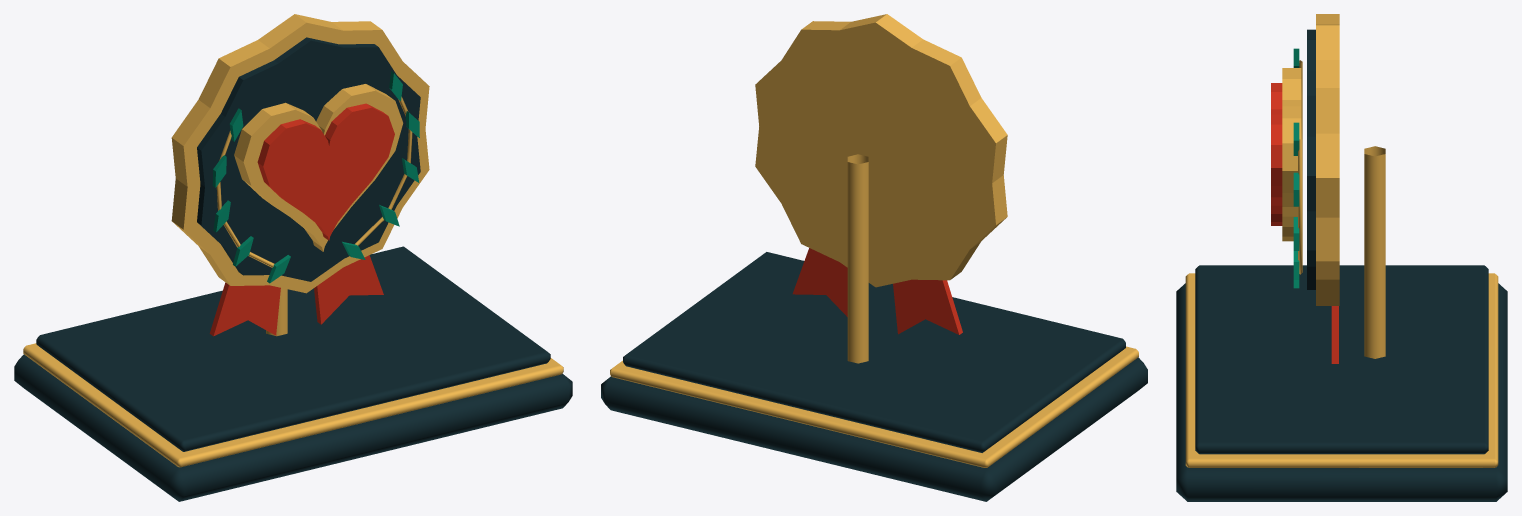
File: chess.insignia.heart.lod1.glb
3 views of the same model, side by side, from view 1: azimuth 30°, elevation 25°; view 2: azimuth 150°, elevation 25°; view 3: azimuth 270°, elevation 25° (orthographic). The views are drawn at different scales.
Parts seen in each view (by area): view 1: stand_top, distance_recess, stand_base, distance_cast_rim, distance_symbol_enamel, stand_gold_band, distance_symbol_setting, distance_ribbon, distance_ribbon.001; view 2: distance_cast_rim, stand_top, stand_base, stand_gold_band, medallion_support, distance_ribbon, distance_ribbon.001; view 3: stand_top, stand_base, stand_gold_band, distance_cast_rim, medallion_support, distance_symbol_setting, distance_recess, distance_symbol_enamel, distance_stem.001, distance_ribbon.001.
Boxes of the visible parts, <box> form: stand_top: <box>36,246,550,451</box>; distance_recess: <box>197,37,420,281</box>; stand_base: <box>14,354,572,501</box>; distance_cast_rim: <box>171,14,429,293</box>; distance_symbol_enamel: <box>257,103,394,240</box>; stand_gold_band: <box>23,343,563,467</box>; distance_symbol_setting: <box>234,84,403,251</box>; distance_ribbon: <box>209,282,280,336</box>; distance_ribbon.001: <box>314,255,383,324</box>; distance_cast_rim: <box>755,14,1007,287</box>; stand_top: <box>623,252,1125,452</box>; stand_base: <box>601,357,1147,501</box>; stand_gold_band: <box>610,346,1138,467</box>; medallion_support: <box>847,154,868,363</box>; distance_ribbon: <box>893,279,962,334</box>; distance_ribbon.001: <box>792,248,847,316</box>; stand_top: <box>1195,265,1488,454</box>; stand_base: <box>1176,283,1507,501</box>; stand_gold_band: <box>1185,273,1498,467</box>; distance_cast_rim: <box>1316,14,1339,305</box>; medallion_support: <box>1364,146,1385,358</box>; distance_symbol_setting: <box>1282,68,1301,241</box>; distance_recess: <box>1307,29,1315,289</box>; distance_symbol_enamel: <box>1271,83,1282,225</box>; distance_stem.001: <box>1298,139,1302,274</box>; distance_ribbon.001: <box>1331,306,1338,363</box>.
Bounding box in the file's own units: 0.672 × 0.613 × 0.48.
